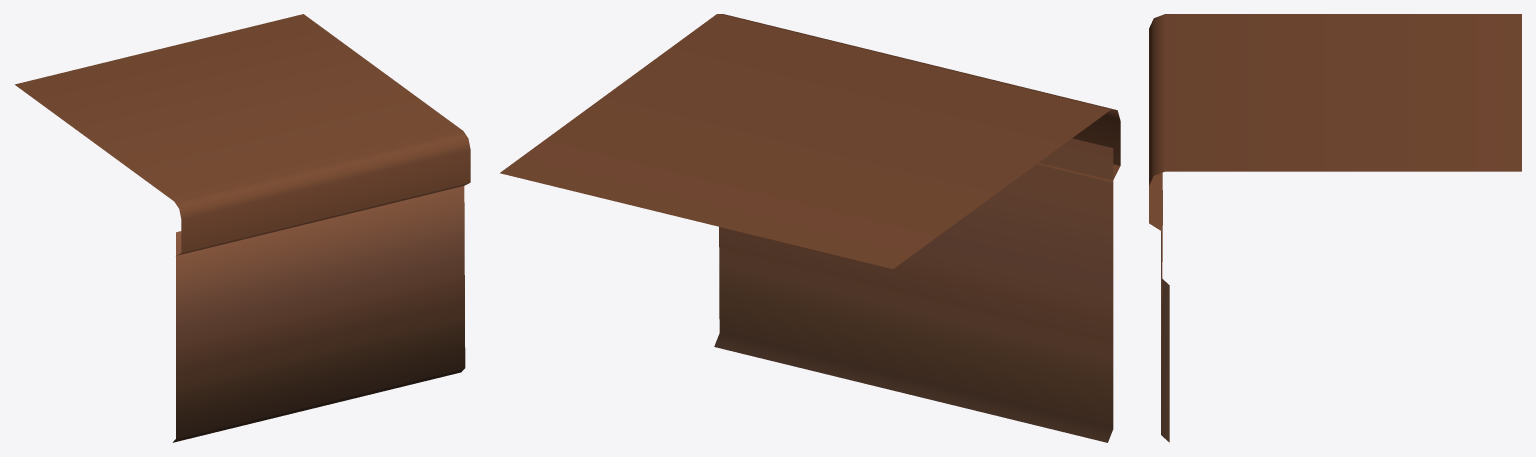
File: OldGround1_2.001.fbx
The picture shows the model from 3 angles, left to right: view 1: azimuth 30°, elevation 25°; view 2: azimuth 150°, elevation 25°; view 3: azimuth 270°, elevation 25°; orthographic projection. The views are drawn at different scales.
Visible parts, largest first — view 1: OldGround1_2.001; view 2: OldGround1_2.001; view 3: OldGround1_2.001.
Part boxes in pixels (x1,y1,x2,y2): OldGround1_2.001: (14, 14, 470, 442); OldGround1_2.001: (500, 14, 1120, 442); OldGround1_2.001: (1149, 14, 1521, 442).
Bounding box in the file's own units: 400 × 321 × 400.
